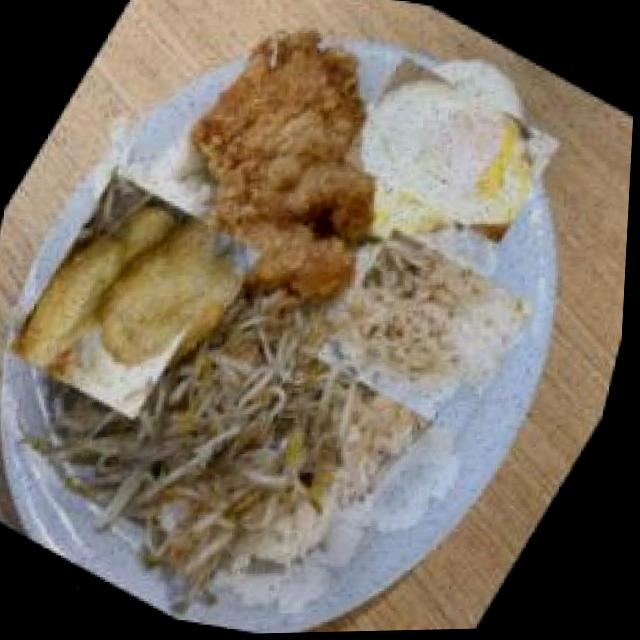chicken_nuggets: (0, 158, 281, 448)
fried_chicken: (126, 0, 477, 350)
fried_eggs: (337, 40, 569, 267)
mung_bean_sprouts: (73, 280, 386, 613)
rice: (309, 215, 552, 452)
